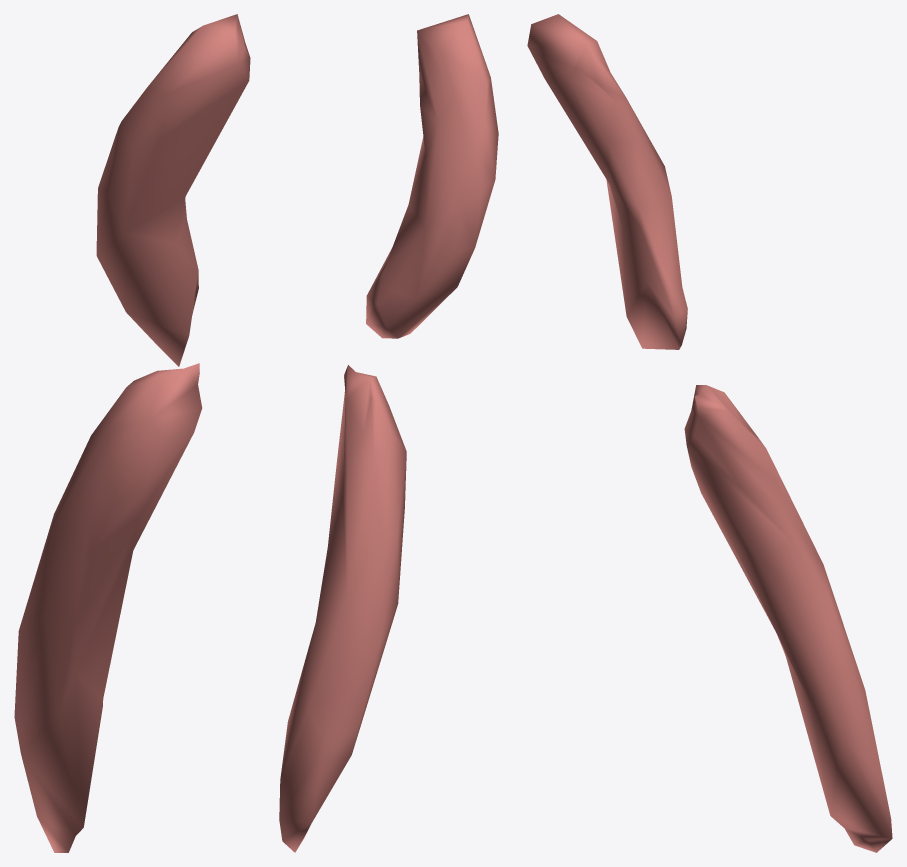
3 views of the same model, side by side, from view 1: azimuth 30°, elevation 25°; view 2: azimuth 150°, elevation 25°; view 3: azimuth 270°, elevation 25° (orthographic). The views are drawn at different scales.
Parts seen in each view (by area): view 1: ZA_15e8dbe9fcb45a7e; view 2: ZA_15e8dbe9fcb45a7e; view 3: ZA_15e8dbe9fcb45a7e.
Part boxes in pixels (box(x1,y1,x2,y2)): ZA_15e8dbe9fcb45a7e: box(14, 14, 250, 852); ZA_15e8dbe9fcb45a7e: box(279, 14, 498, 852); ZA_15e8dbe9fcb45a7e: box(527, 14, 892, 852).
Bounding box in the file's own units: 0.00703 × 0.0449 × 0.018.
